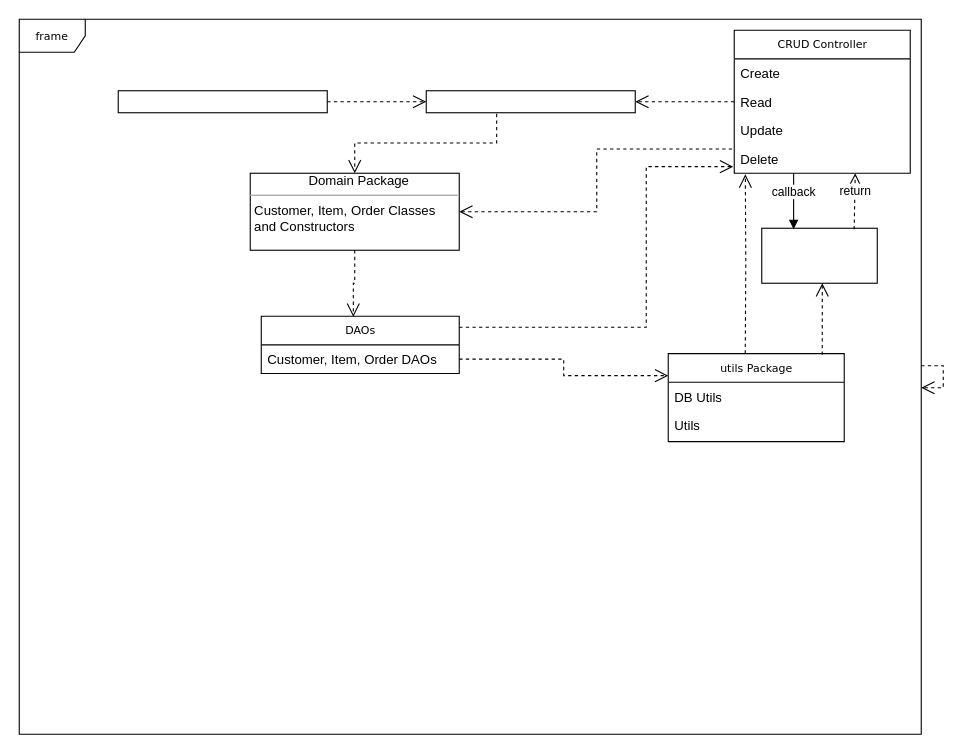
Image size: 976x754. Some labels were removed from this diagram. The shapes that lost their labels are listed below. From the top down, each one's centre as x and y in pixels, then its label:
point (222, 101): Runner
point (530, 101): IMS
point (819, 255): IMS Database
